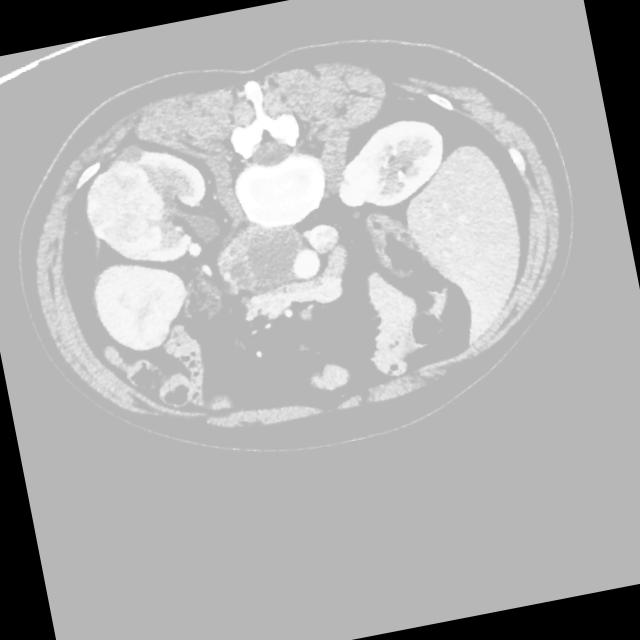TUMOR: (10, 68, 571, 453)
